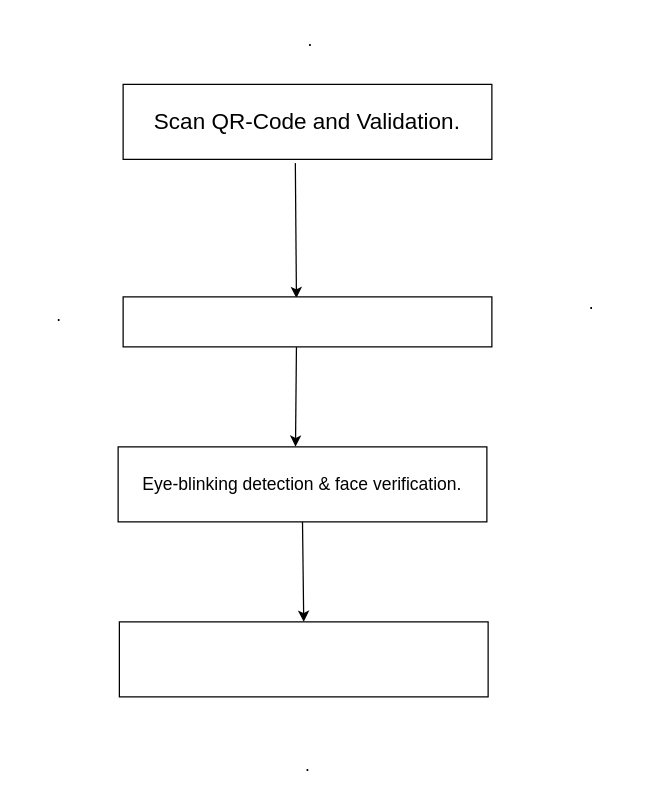
Image size: 650x805. Some labels were removed from this diagram. Here are the shapes that lost their labels. From the top down, the box of each, then its label:
(122, 296, 492, 347): Load ML model of the scanned QR-Code.
(118, 621, 488, 697): Update attendance to database.
